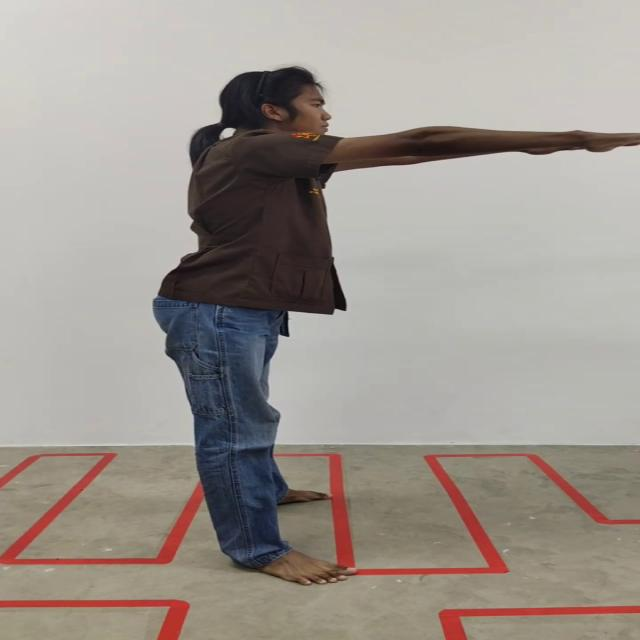stand: (154, 66, 640, 588)
